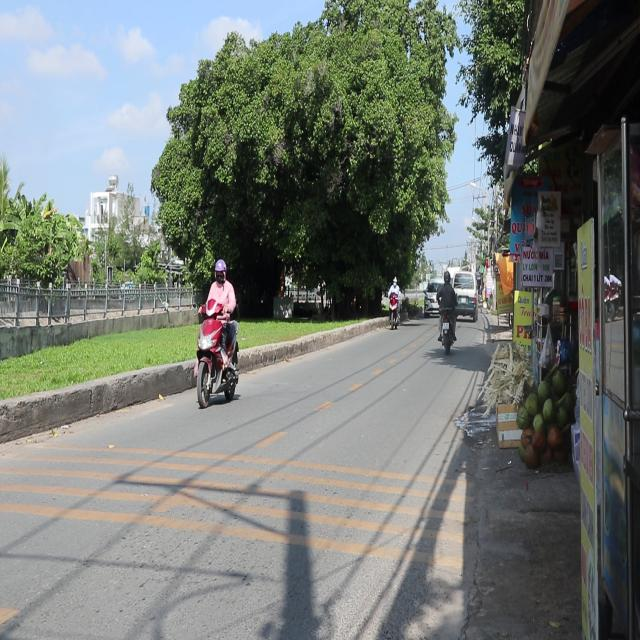helmet: (213, 256, 226, 282)
licenseplate: (193, 256, 240, 406)
